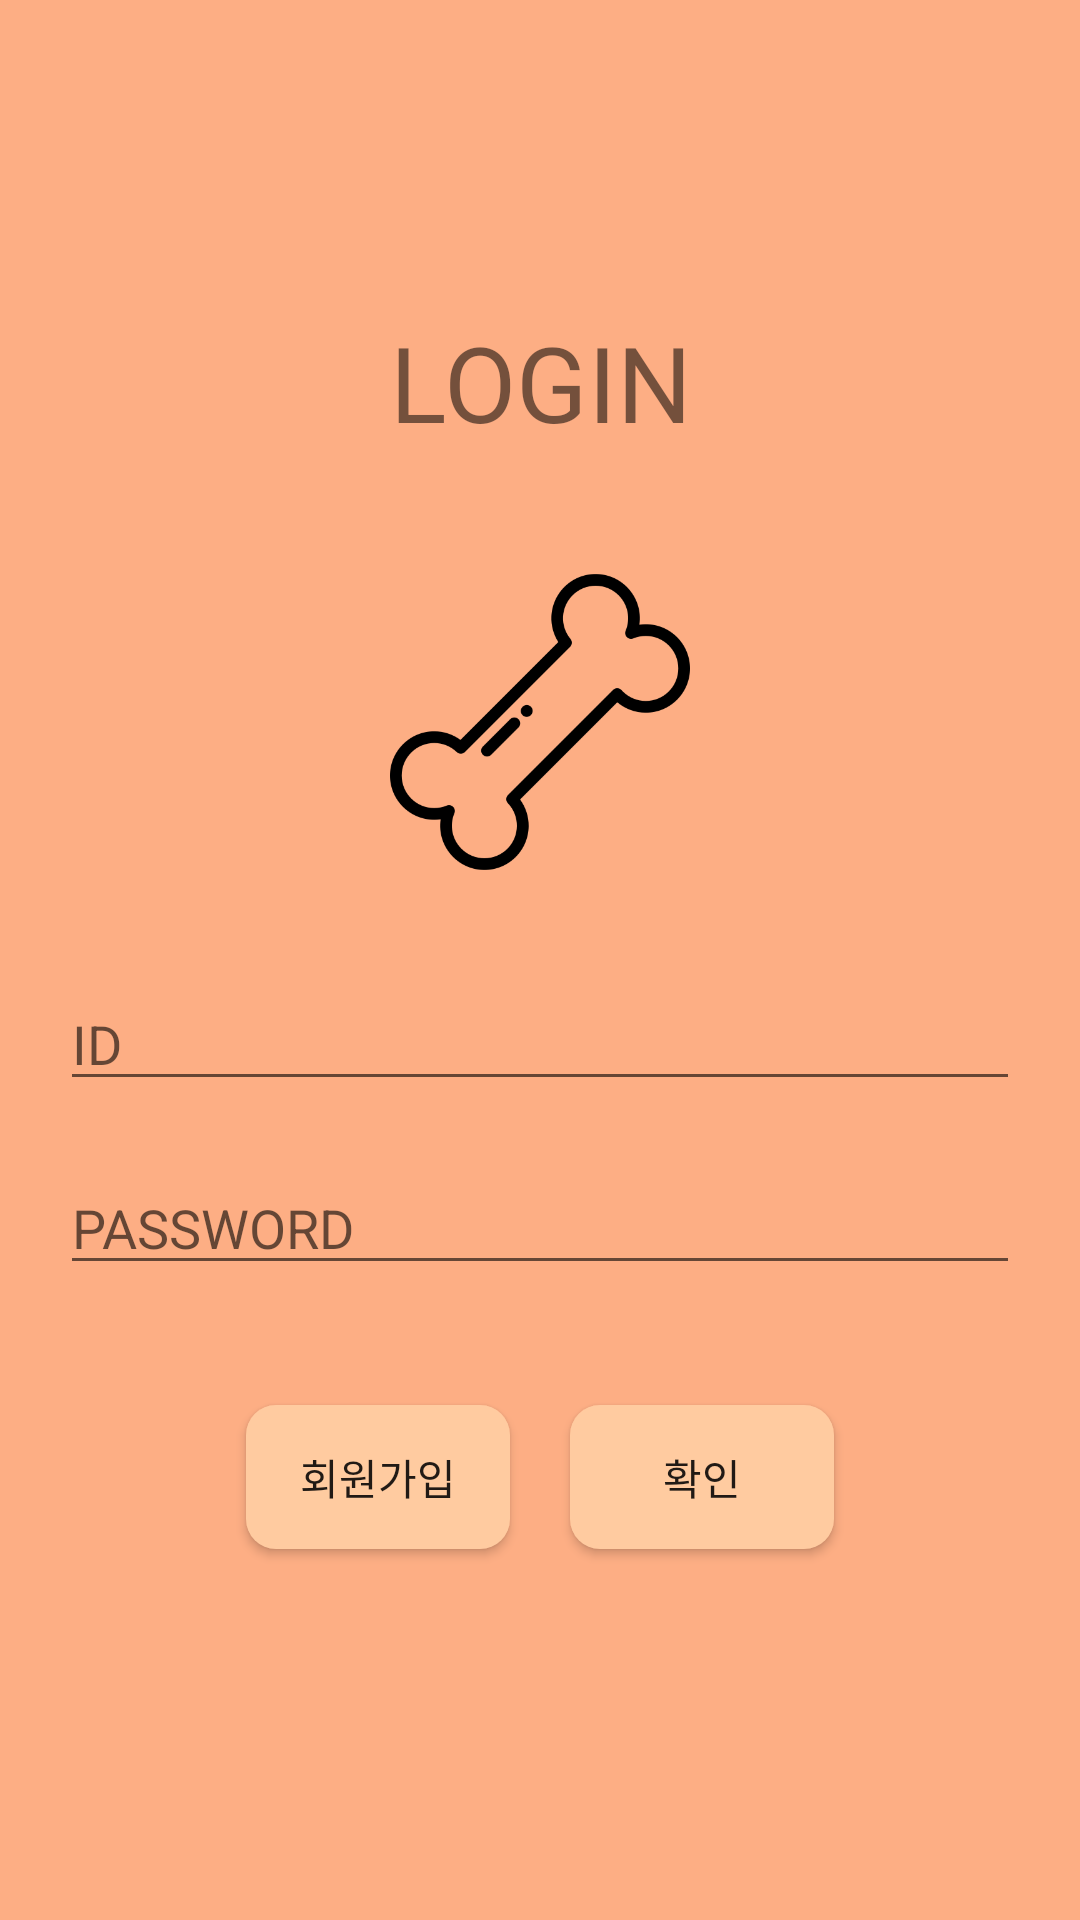

Screen size 1080*1920. Icon name, then its center in pixels as point (x, y):
bone: point (540, 722)
